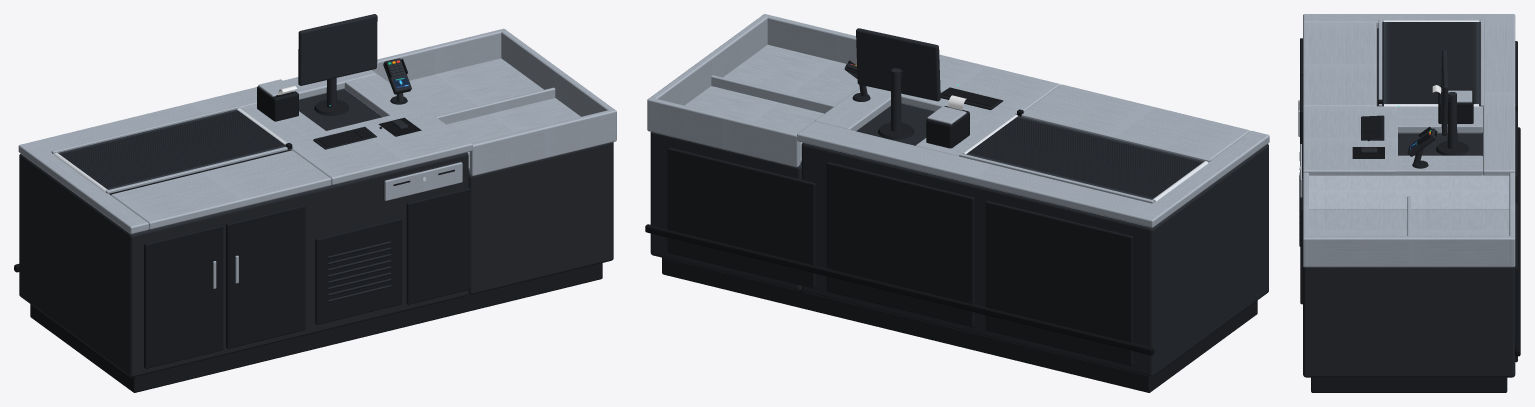
The model's file is Checkout_Counter.glb.
The picture shows the model from 3 angles, left to right: view 1: azimuth 30°, elevation 25°; view 2: azimuth 150°, elevation 25°; view 3: azimuth 270°, elevation 25°; orthographic projection. The views are drawn at different scales.
Visible parts, largest first — view 1: ThermalReceiptStrip; view 2: ThermalReceiptStrip; view 3: ThermalReceiptStrip.
Boxes of the visible parts, left/top/right/bottom form: ThermalReceiptStrip: left=14, top=14, right=616, bottom=392; ThermalReceiptStrip: left=645, top=14, right=1269, bottom=392; ThermalReceiptStrip: left=1298, top=14, right=1520, bottom=392.
Size of the model in its own units: 2.62 by 1.3 by 1.1.
14 materials, 3 textured.
